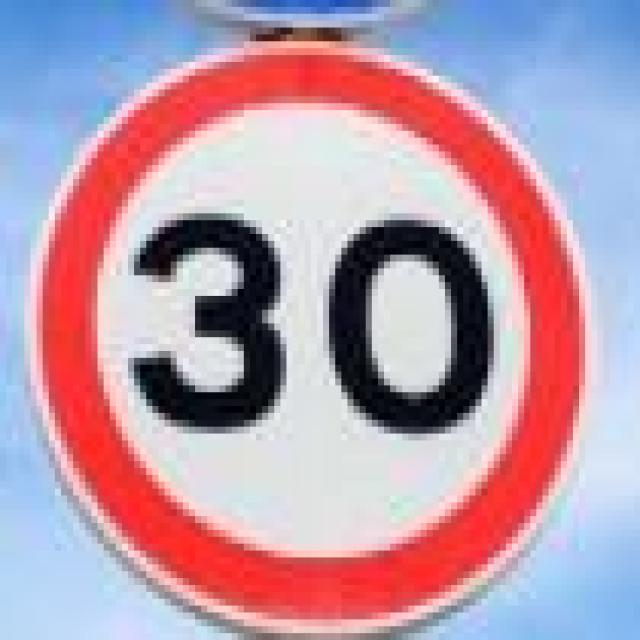speed_limit_30: (24, 35, 579, 620)
